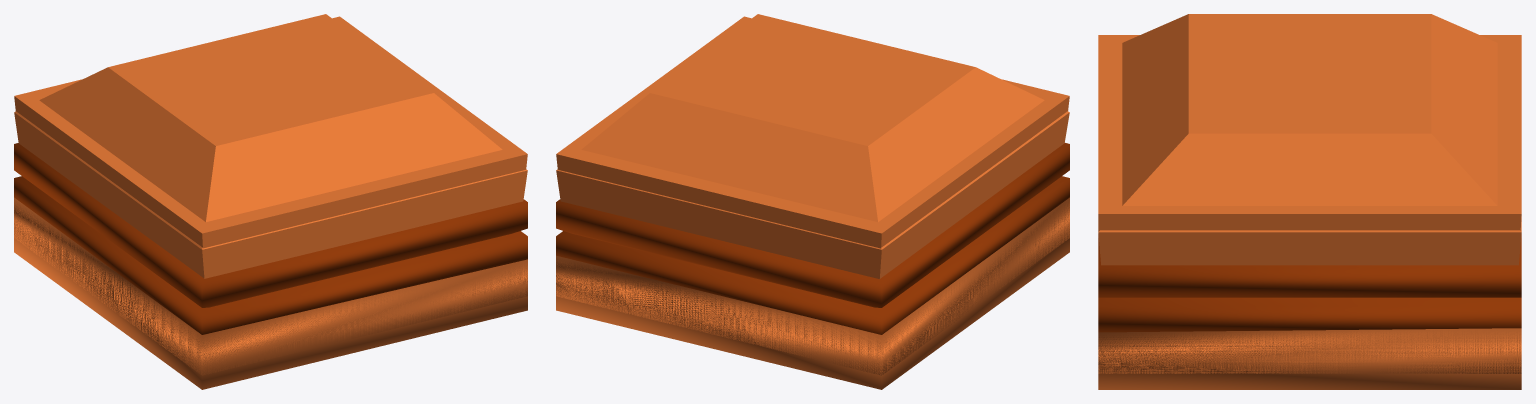
Rendered from hamburger1.glb.
3 views of the same model, side by side, from view 1: azimuth 30°, elevation 25°; view 2: azimuth 150°, elevation 25°; view 3: azimuth 270°, elevation 25° (orthographic). The views are drawn at different scales.
Visible parts, largest first — view 1: 6TopBun, 1ButtomBun, 4Meat, 2Meat; view 2: 6TopBun, 1ButtomBun, 4Meat, 2Meat; view 3: 6TopBun, 1ButtomBun, 2Meat, 4Meat.
Part boxes in pixels (x1,y1,x2,y2): 6TopBun: (14, 14, 527, 278); 1ButtomBun: (14, 197, 527, 389); 4Meat: (14, 143, 527, 307); 2Meat: (14, 176, 527, 334); 6TopBun: (556, 14, 1069, 279); 1ButtomBun: (556, 197, 1069, 389); 4Meat: (556, 143, 1069, 307); 2Meat: (556, 176, 1069, 334); 6TopBun: (1098, 14, 1521, 265); 1ButtomBun: (1098, 328, 1521, 389); 2Meat: (1098, 297, 1521, 332); 4Meat: (1098, 234, 1521, 297).
Bounding box in the file's own units: 2 × 1.18 × 2.
